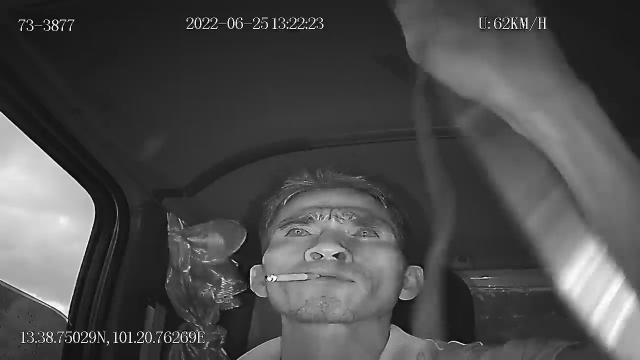SafeDriving: (344, 222, 384, 243), (279, 221, 315, 241)
Smoking: (264, 272, 318, 282)
